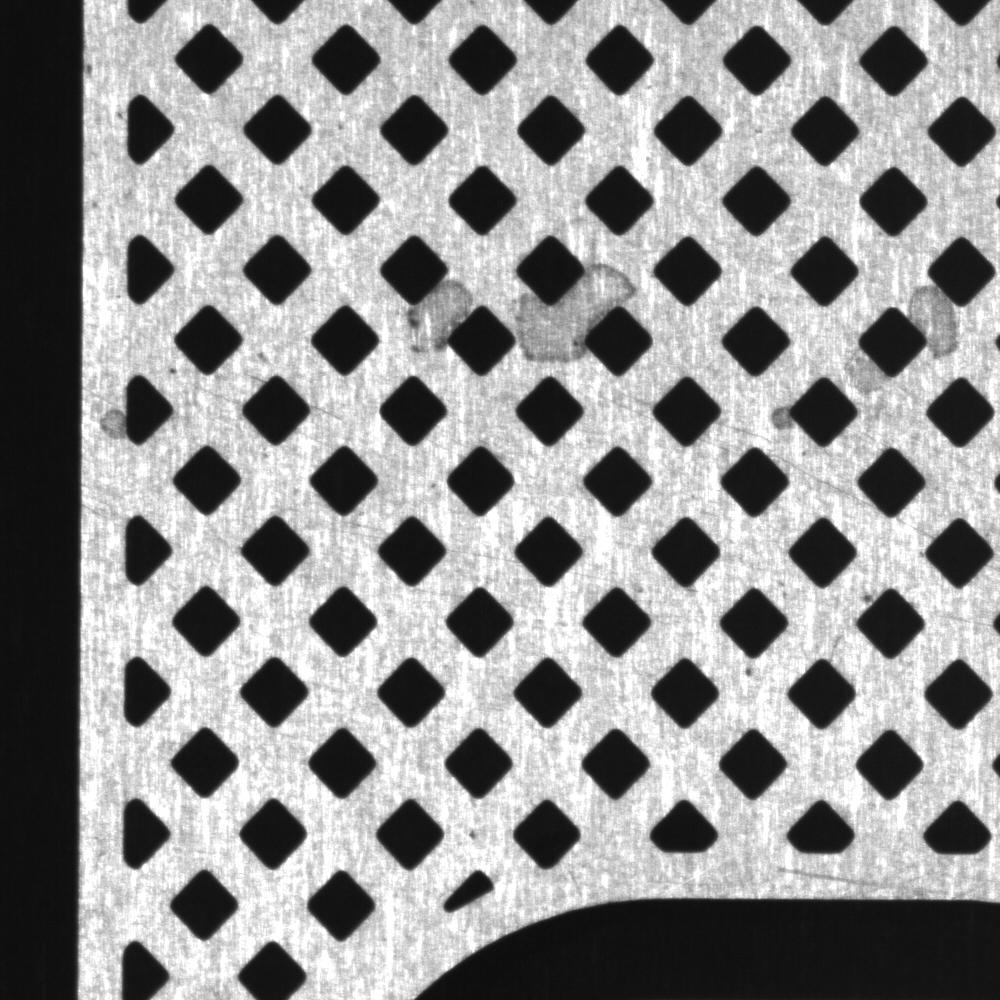Discolor: (507, 245, 652, 375), (899, 273, 968, 364), (393, 281, 479, 353), (93, 378, 143, 467), (826, 341, 894, 400), (761, 388, 800, 447)
Pinhole: (727, 658, 768, 687), (848, 583, 879, 606), (161, 354, 183, 381)
Scar: (756, 856, 937, 891), (784, 455, 863, 514), (918, 595, 995, 642), (310, 508, 387, 544), (449, 531, 511, 571), (307, 397, 368, 437), (575, 562, 650, 590), (594, 385, 654, 417), (187, 377, 244, 407), (898, 512, 938, 540), (706, 432, 740, 457)
